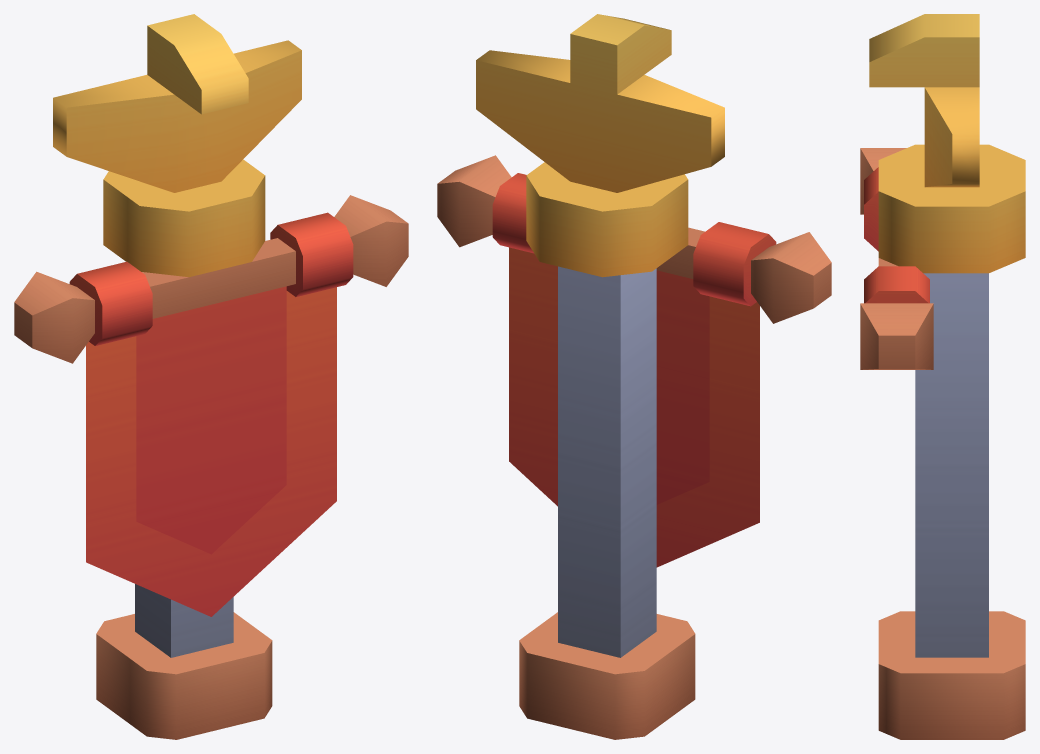
The picture shows the model from 3 angles, left to right: view 1: azimuth 30°, elevation 25°; view 2: azimuth 150°, elevation 25°; view 3: azimuth 270°, elevation 25°; orthographic projection.
Parts seen in each view (by area): view 1: banner; view 2: banner; view 3: banner.
Part boxes in pixels (left/top/right/bottom): banner: left=14, top=14, right=408, bottom=739; banner: left=437, top=14, right=831, bottom=739; banner: left=860, top=14, right=1025, bottom=739.
Bounding box in the file's own units: 0.6 × 1.02 × 0.225.
Materials: 1 (1 with a texture image).
